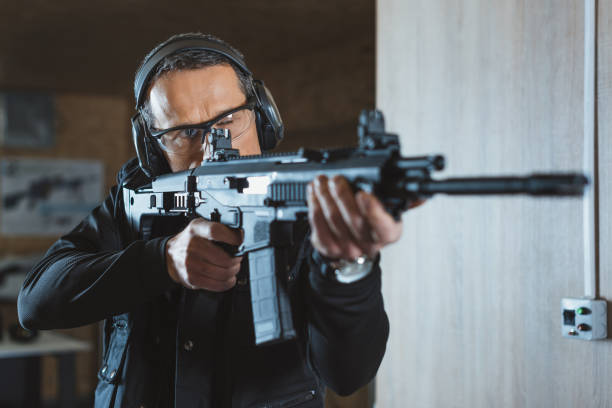gun: (120, 110, 588, 346)
